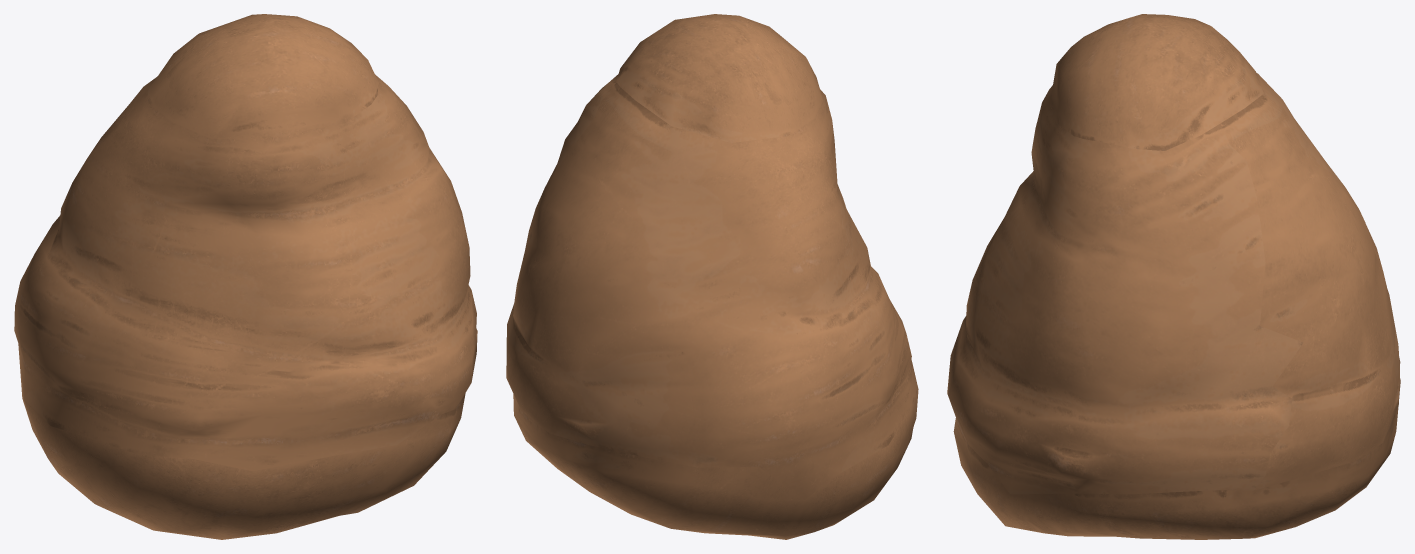
File: rock7.fbx
The picture shows the model from 3 angles, left to right: view 1: azimuth 30°, elevation 25°; view 2: azimuth 150°, elevation 25°; view 3: azimuth 270°, elevation 25°; orthographic projection. The views are drawn at different scales.
Visible parts, largest first — view 1: Plane.066; view 2: Plane.066; view 3: Plane.066.
Part boxes in pixels (x1,y1,x2,y2): Plane.066: [14, 14, 477, 539]; Plane.066: [506, 14, 918, 539]; Plane.066: [947, 14, 1400, 539].
Size of the model in its own units: 154 by 183 by 150.
Materials: 1 (1 with a texture image).
